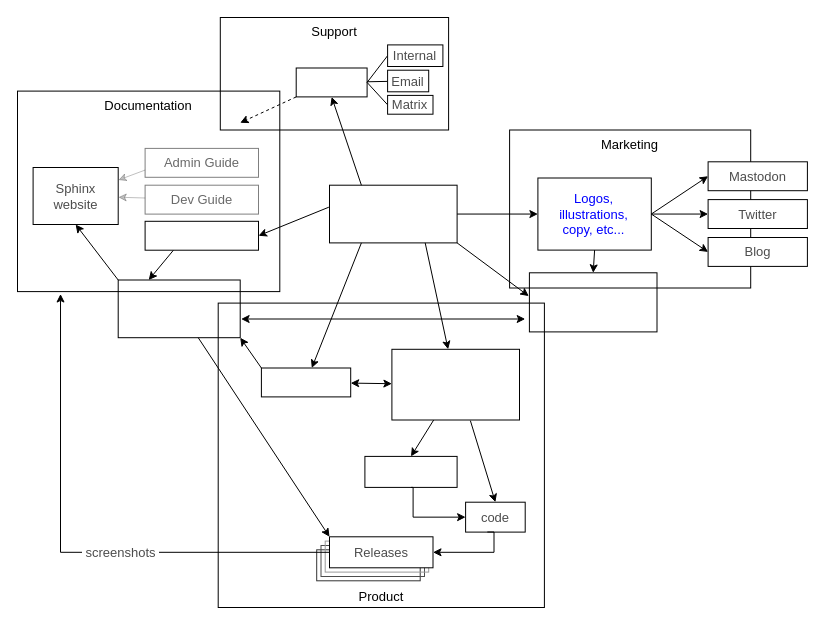
Some shapes in this 825 by 625 pixel diagram are drawn without their labels. The shapes that lost their labels are listed below. From the top down, each one's centre as x and y in pixels, then its label:
At point 331,82: "tickets".
At point 392,213: "Design".
At point 201,235: "User Guide".
At point 178,308: "Weblate".
At point 592,302: "Homepage".
At point 305,382: "Microcopy".
At point 455,384: "New features, Improvements, Maintenance".
At point 410,471: "mockups".
